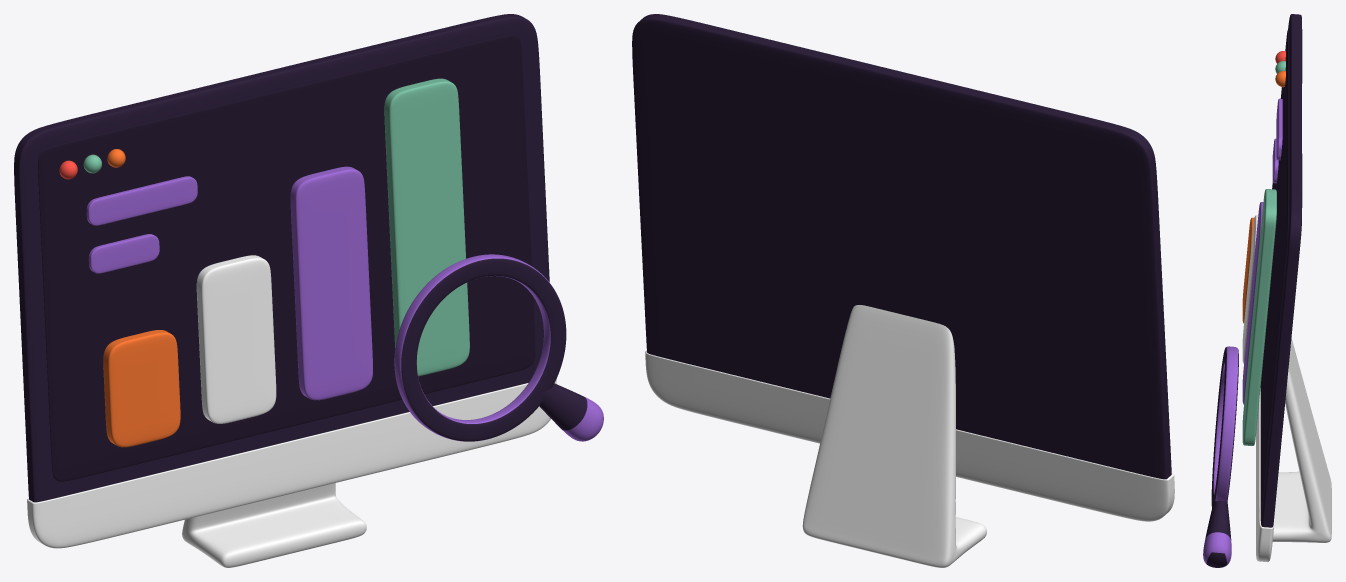
File: data-analytics-3d-animated-icon-1232906730529.glb
3 renders of one model, left to right at view 1: azimuth 30°, elevation 25°; view 2: azimuth 150°, elevation 25°; view 3: azimuth 270°, elevation 25°, orthographic. The views are drawn at different scales.
Visible parts, largest first — view 1: Monitor Screen, Monitor Stand, Monitor Frame, Screen Bar Chart 4, Screen Bar Chart 3, Magnifying Glass, Screen Bar Chart 2, Screen Bar Chart 1, Screen Line 1, Screen Line 2; view 2: Monitor Frame, Monitor Stand; view 3: Monitor Stand, Monitor Frame, Monitor Screen, Magnifying Glass, Screen Bar Chart 4, Screen Bar Chart 3, Screen Bar Chart 2, Screen Bar Chart 1, Screen Line 1, Screen Line 2.
Part boxes in pixels (x1,y1,x2,y2): Monitor Screen: (38,35,535,481); Monitor Stand: (27,149,556,567); Monitor Frame: (14,14,549,502); Screen Bar Chart 4: (384,78,469,376); Screen Bar Chart 3: (290,166,372,400); Magnifying Glass: (394,254,603,441); Screen Bar Chart 2: (196,255,276,423); Screen Bar Chart 1: (103,330,180,447); Screen Line 1: (86,176,197,225); Screen Line 2: (88,234,159,273); Monitor Frame: (632,14,1171,479); Monitor Stand: (645,305,1174,567); Monitor Stand: (1256,51,1331,562); Monitor Frame: (1260,14,1302,527); Monitor Screen: (1261,30,1288,502); Magnifying Glass: (1203,346,1238,567); Screen Bar Chart 4: (1242,189,1276,445); Screen Bar Chart 3: (1242,202,1263,404); Screen Bar Chart 2: (1242,215,1258,363); Screen Bar Chart 1: (1242,217,1254,323); Screen Line 1: (1276,98,1282,160); Screen Line 2: (1272,138,1278,183).
Size of the model in its own units: 1.81 by 1.49 by 0.4329.
